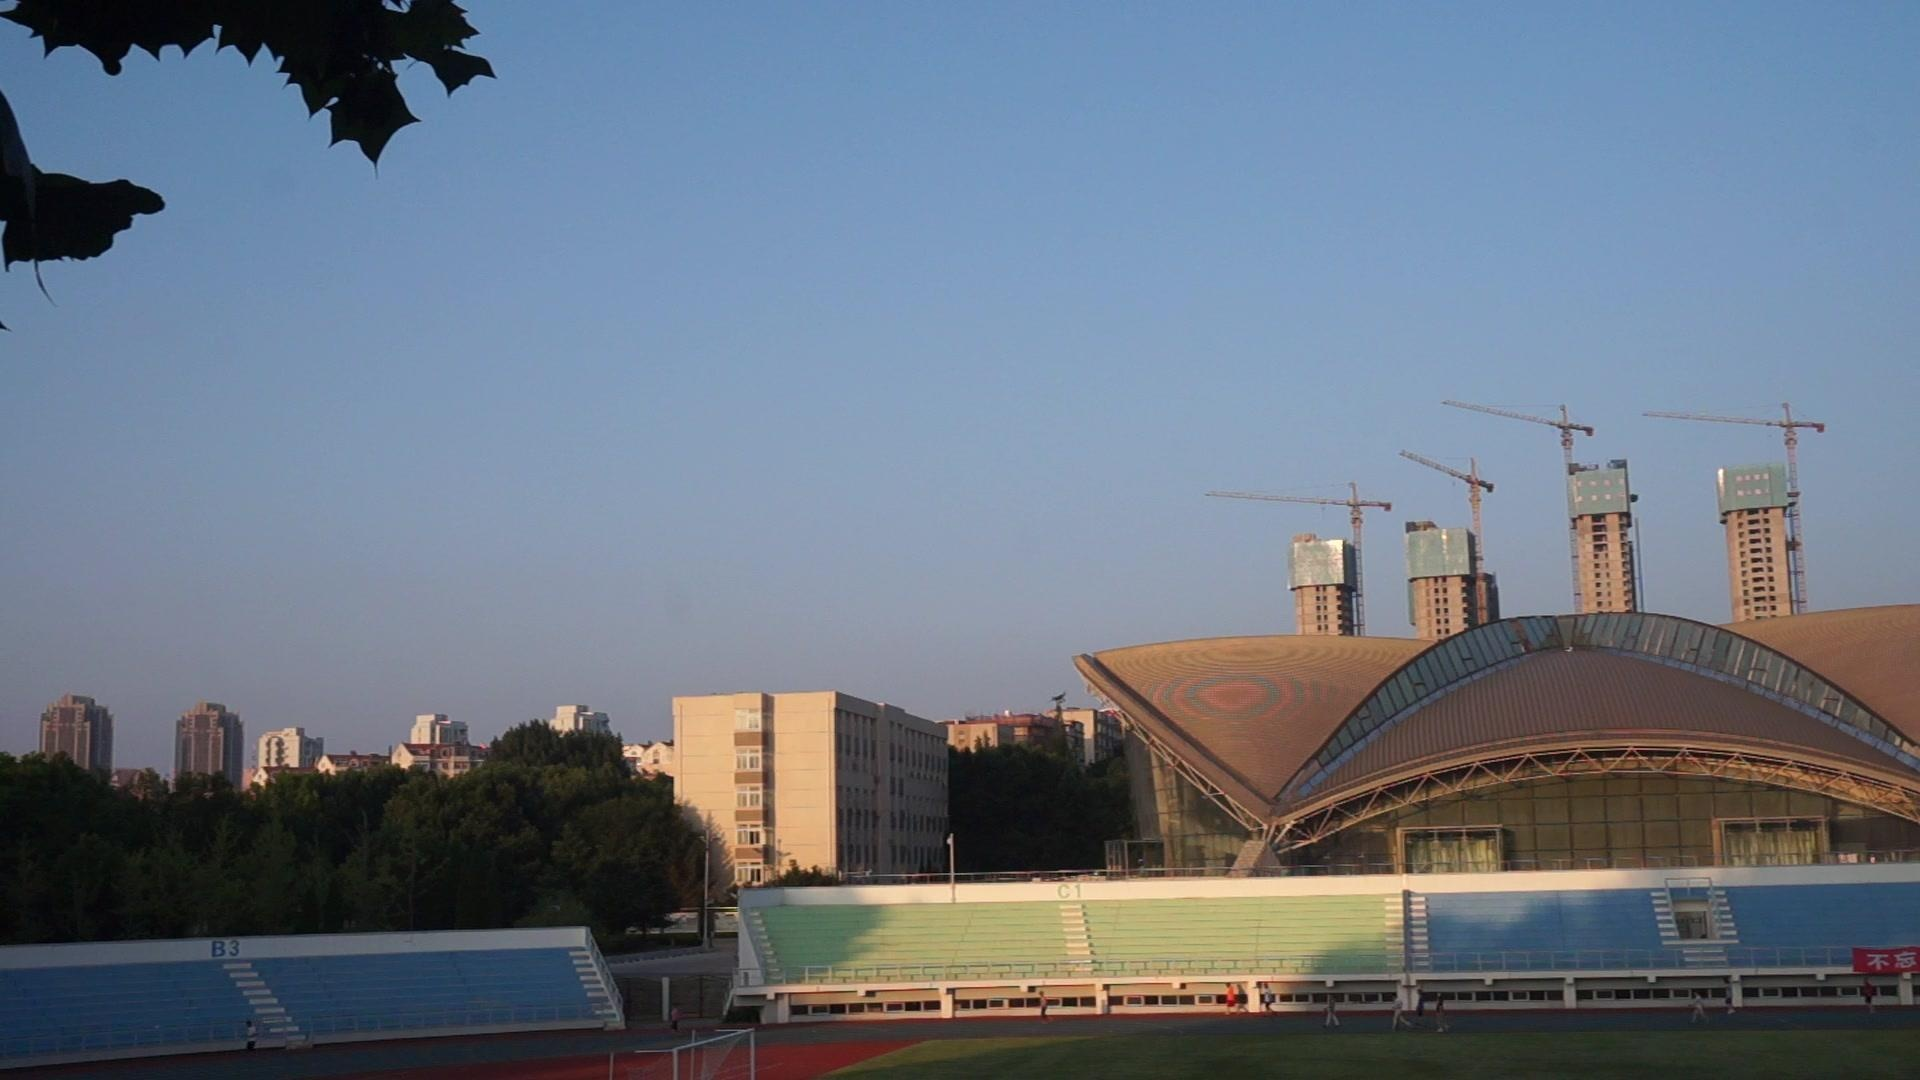UAV: (1050, 692, 1068, 704)
